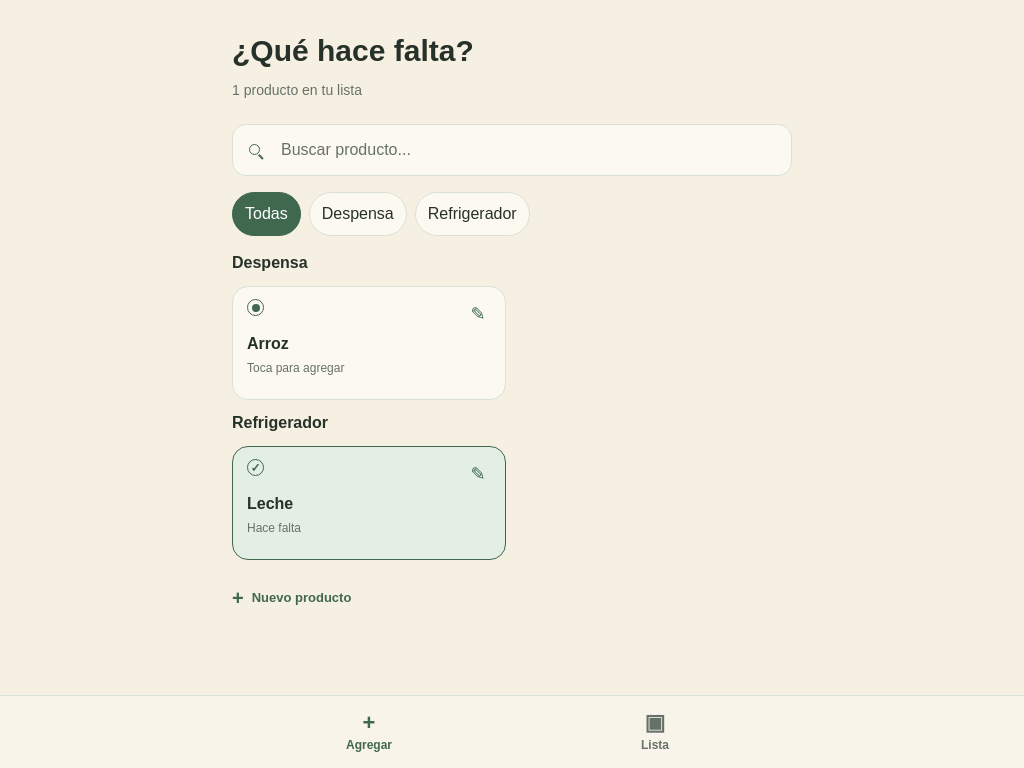
Test: catálogo y lista pendiente › quita un pendiente al tocarlo otra vez
The image size is (1024, 768).
Click the button "✓ Leche Hace falta".
click(270, 504)  # box [233,447,505,559]
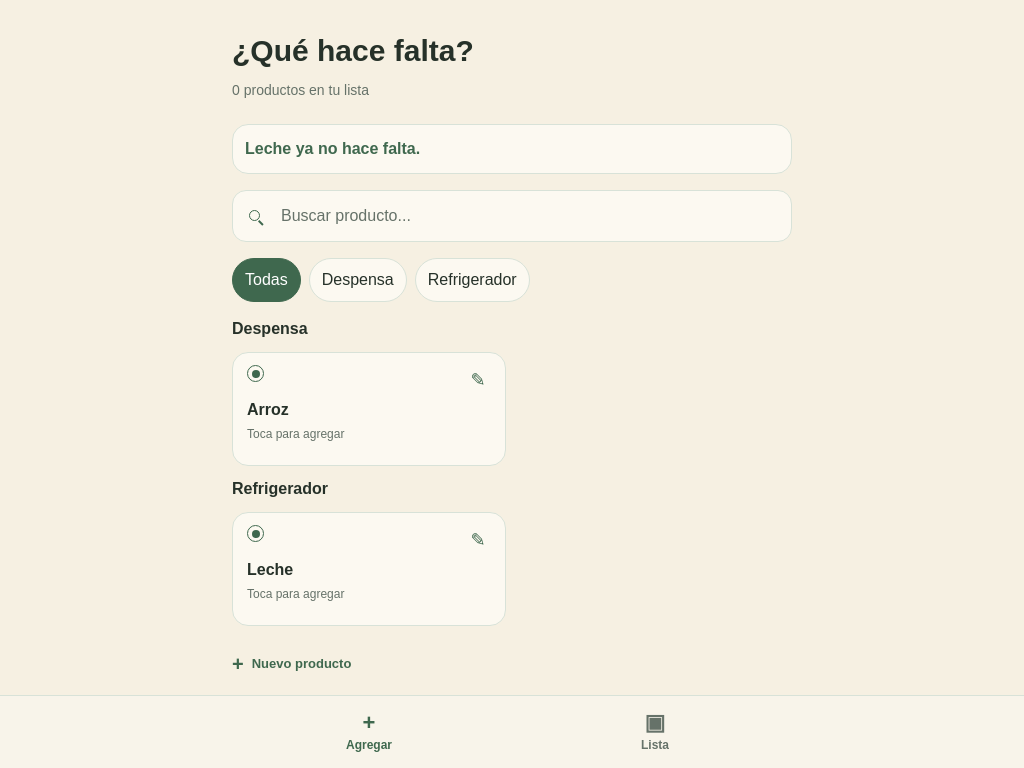
Expected: the link with aria-label "Lista (0)" is shown, [641,710,669,752]
Result: the button "Leche Toca para agregar" is shown at [233,513,505,625]
